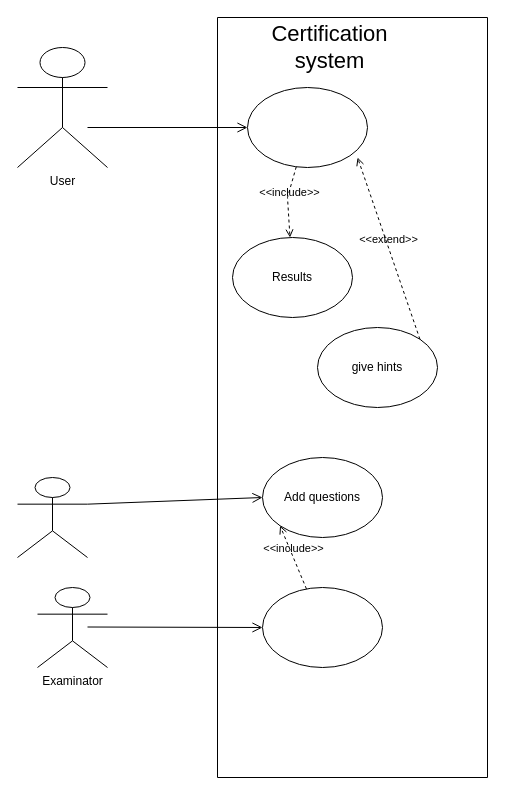
Some shapes in this 505 by 795 pixel diagram are drawn without their labels. Here are the shapes that lost their labels. From the top down, the centre of each, then its label:
At point 307,127: "Make requests".
At point 52,517: "Tutor".
At point 322,627: "certify questions".
